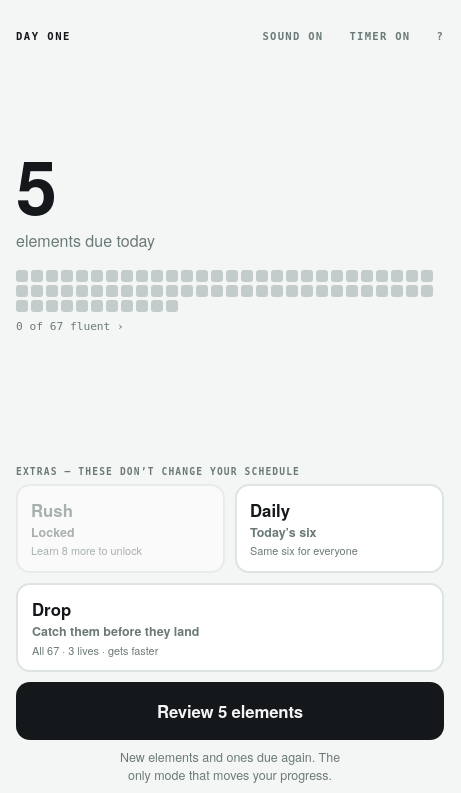
Test: telling the modes apart › explains every mode on the help screen
The image size is (461, 793).
Click the button named "How this works" at (434, 36), box [424, 14, 444, 58]
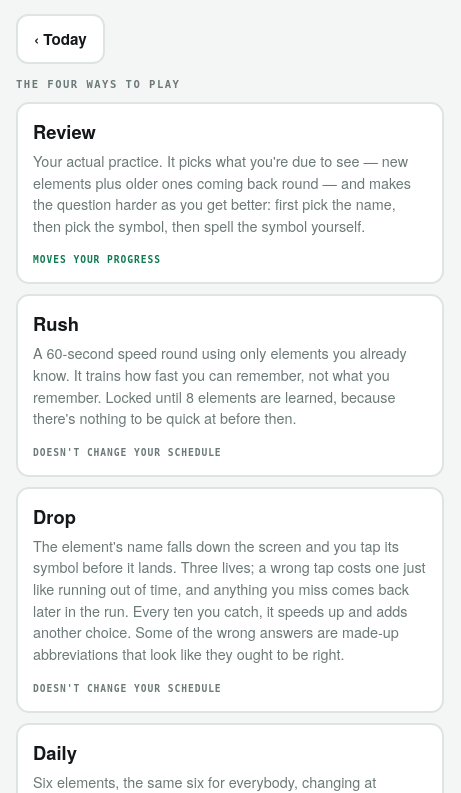
Result: the heading "Drop" is shown at [33, 503, 76, 530]
Result: the text "Moves your progress" is shown once at [33, 254, 161, 265]
Result: the text "Doesn't change your schedule" is shown 3 times
